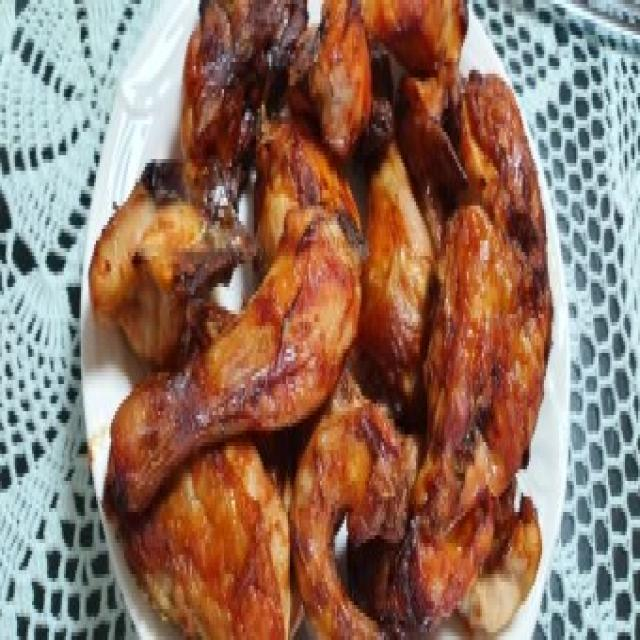Frango: (93, 4, 556, 640)
